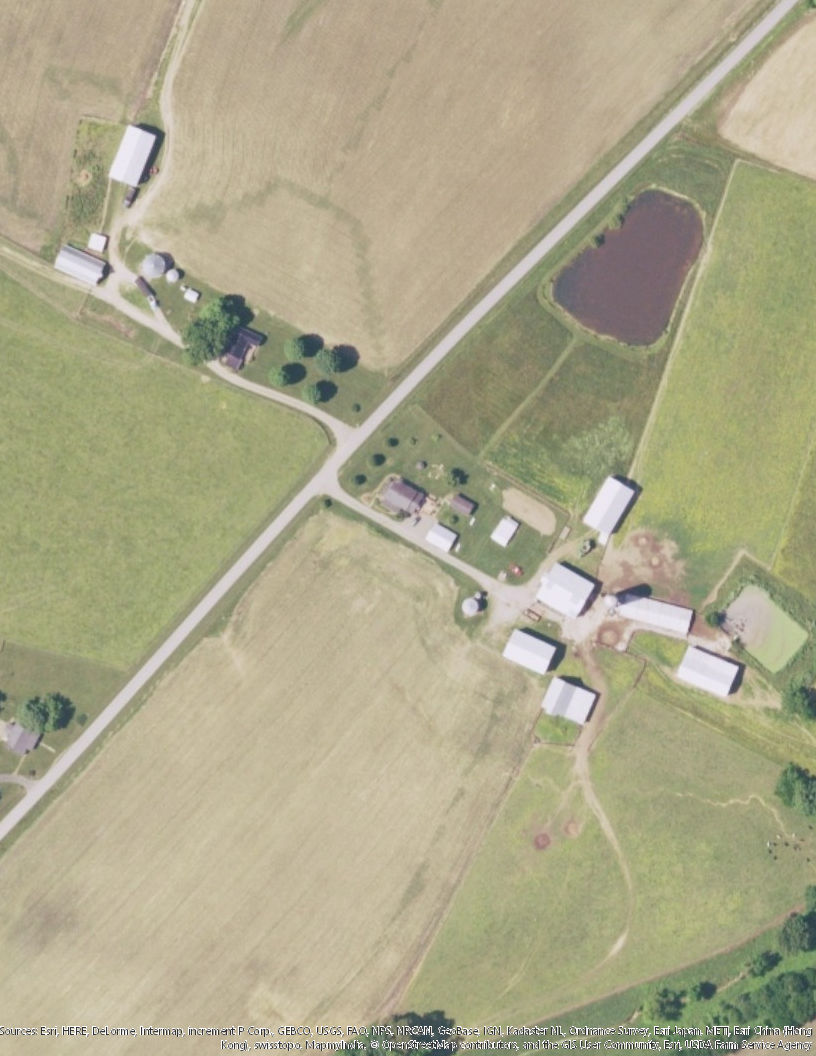cafo: (603, 583, 709, 643), (530, 559, 604, 622), (677, 643, 750, 701), (582, 472, 638, 544), (540, 671, 605, 726), (108, 127, 162, 189), (44, 243, 112, 289), (501, 628, 559, 674)
